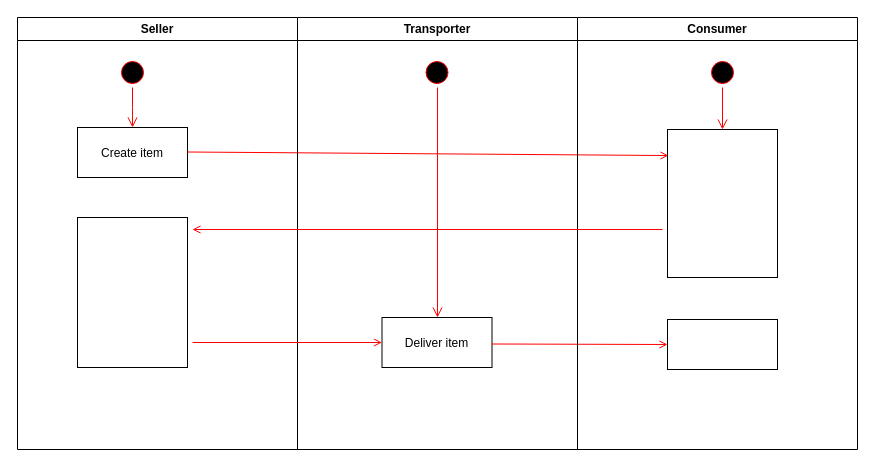
Some shapes in this 875 by 467 pixel diagram are drawn without their labels. The centre of each missing label's shape, as x and y in pixels:
"Purchase item" belongs at (x=722, y=203).
"Receive item" belongs at (x=722, y=344).
"Ship item" belongs at (x=132, y=292).
